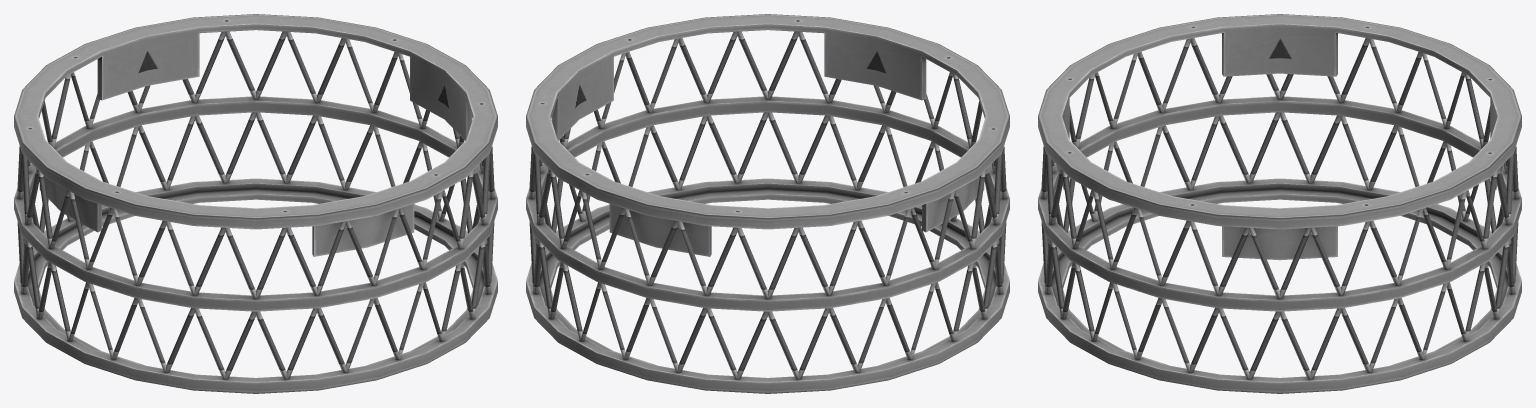
File: Castor_Decoupler_2_R.obj
The picture shows the model from 3 angles, left to right: view 1: azimuth 30°, elevation 25°; view 2: azimuth 150°, elevation 25°; view 3: azimuth 270°, elevation 25°; orthographic projection.
Parts seen in each view (by area): view 1: Castor_Decoupler_2_R; view 2: Castor_Decoupler_2_R; view 3: Castor_Decoupler_2_R.
Boxes of the visible parts, x1,y1,x2,y2 form: Castor_Decoupler_2_R: (14,14,497,393); Castor_Decoupler_2_R: (526,14,1009,393); Castor_Decoupler_2_R: (1038,14,1521,393).
Size of the model in its own units: 2.5 by 1 by 2.5.
